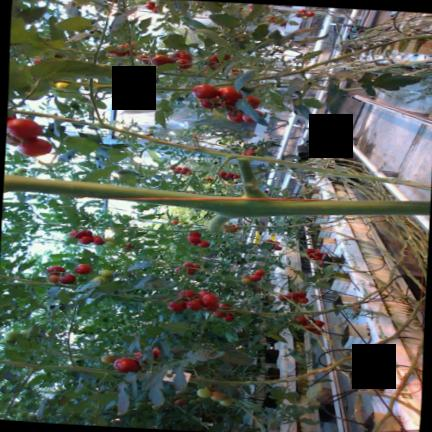6kp_petiole: (87, 103, 115, 129), (127, 67, 151, 89)
MainStem: (13, 109, 431, 190), (189, 299, 420, 384), (4, 173, 431, 217), (215, 245, 406, 314), (284, 34, 432, 75), (389, 336, 424, 409), (0, 360, 127, 373), (0, 274, 77, 287), (94, 83, 193, 90)
tomato: (7, 118, 42, 138), (18, 137, 51, 156), (218, 86, 241, 103), (114, 357, 141, 371), (192, 84, 218, 97), (150, 54, 173, 66), (242, 109, 263, 121), (68, 229, 92, 238), (54, 81, 68, 96), (245, 95, 260, 108), (167, 301, 186, 311), (201, 293, 218, 304), (186, 299, 203, 310), (173, 50, 191, 60), (74, 263, 91, 273), (58, 273, 75, 283), (46, 265, 64, 274), (218, 396, 234, 406), (227, 113, 244, 122), (176, 58, 191, 68), (196, 387, 211, 397), (100, 354, 116, 363), (177, 289, 195, 297), (199, 98, 212, 108), (210, 390, 223, 400), (98, 269, 113, 277), (91, 275, 108, 282), (187, 235, 200, 244), (78, 235, 92, 243), (295, 315, 307, 324), (47, 274, 59, 282), (93, 236, 103, 245), (222, 313, 233, 321), (197, 240, 209, 247), (212, 311, 225, 317), (104, 240, 115, 247), (250, 273, 261, 280), (174, 398, 185, 405), (198, 291, 210, 297), (286, 291, 298, 297), (14, 167, 26, 173), (298, 296, 308, 303), (241, 277, 252, 283), (254, 269, 265, 275), (189, 231, 201, 236), (296, 290, 306, 296), (314, 320, 323, 326), (148, 126, 156, 132), (189, 399, 198, 404), (121, 247, 130, 252), (170, 219, 179, 224), (277, 295, 286, 300), (226, 172, 233, 178), (182, 223, 192, 227), (274, 245, 282, 250), (306, 11, 314, 16), (305, 248, 314, 252), (219, 170, 226, 175), (232, 174, 239, 178), (234, 178, 241, 182), (314, 250, 321, 254), (312, 255, 321, 258), (173, 169, 179, 173), (180, 170, 186, 174), (186, 171, 192, 175), (174, 166, 181, 169), (9, 171, 16, 174), (182, 167, 187, 171), (230, 229, 236, 231)
